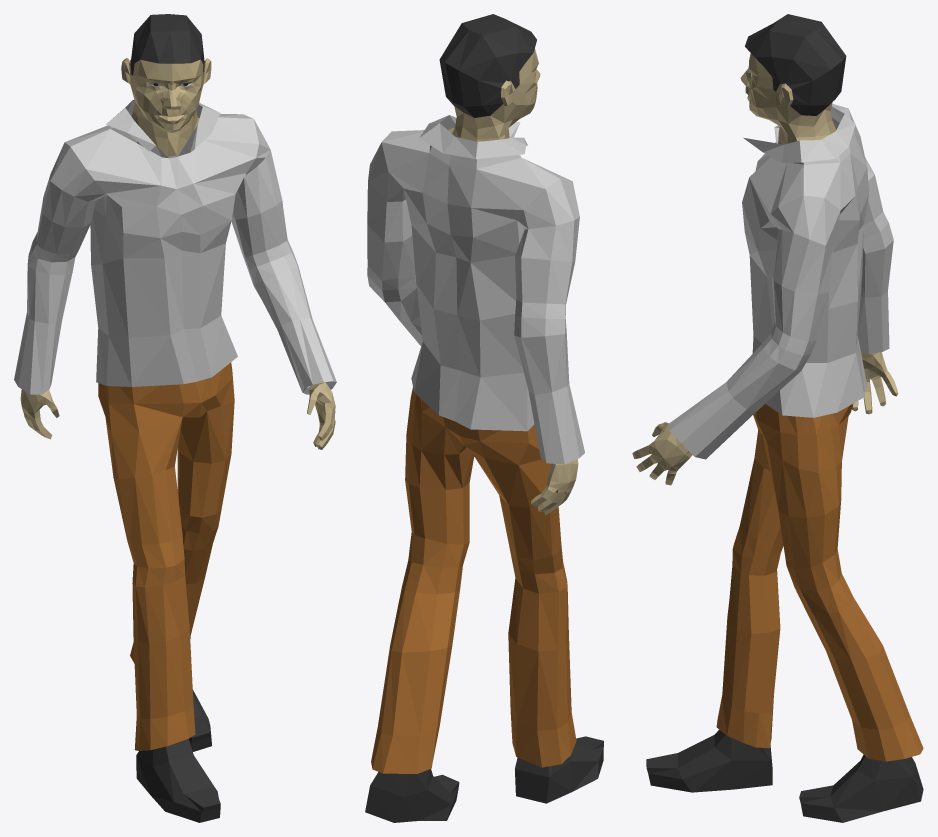
File: person.dae
The picture shows the model from 3 angles, left to right: view 1: azimuth 30°, elevation 25°; view 2: azimuth 150°, elevation 25°; view 3: azimuth 270°, elevation 25°; orthographic projection. The views are drawn at different scales.
Parts seen in each view (by area): view 1: material_Shape_Coord_Material__5__Surf, material_Shape_Coord_Material__1__Surf, material_Shape_Coord_Material__6__Surf, material_Shape_Coord_Material__2__Surf, material_Shape_Coord_Material__4__Surf; view 2: material_Shape_Coord_Material__5__Surf, material_Shape_Coord_Material__1__Surf, material_Shape_Coord_Material__2__Surf, material_Shape_Coord_Material__4__Surf, material_Shape_Coord_Material__6__Surf; view 3: material_Shape_Coord_Material__5__Surf, material_Shape_Coord_Material__1__Surf, material_Shape_Coord_Material__2__Surf, material_Shape_Coord_Material__6__Surf, material_Shape_Coord_Material__4__Surf.
Boxes of the visible parts, left/top/right/bottom form: material_Shape_Coord_Material__5__Surf: left=14, top=100, right=336, bottom=394; material_Shape_Coord_Material__1__Surf: left=98, top=362, right=234, bottom=750; material_Shape_Coord_Material__6__Surf: left=20, top=58, right=335, bottom=449; material_Shape_Coord_Material__2__Surf: left=136, top=83, right=220, bottom=822; material_Shape_Coord_Material__4__Surf: left=130, top=14, right=204, bottom=75; material_Shape_Coord_Material__5__Surf: left=367, top=115, right=584, bottom=464; material_Shape_Coord_Material__1__Surf: left=371, top=387, right=576, bottom=773; material_Shape_Coord_Material__2__Surf: left=365, top=736, right=603, bottom=822; material_Shape_Coord_Material__4__Surf: left=439, top=14, right=536, bottom=117; material_Shape_Coord_Material__6__Surf: left=448, top=49, right=578, bottom=514; material_Shape_Coord_Material__5__Surf: left=668, top=104, right=893, bottom=459; material_Shape_Coord_Material__1__Surf: left=716, top=403, right=923, bottom=761; material_Shape_Coord_Material__2__Surf: left=646, top=729, right=923, bottom=822; material_Shape_Coord_Material__6__Surf: left=632, top=53, right=898, bottom=485; material_Shape_Coord_Material__4__Surf: left=745, top=14, right=846, bottom=115.
Size of the model in its own units: 6.28 by 18.61 by 6.36.
